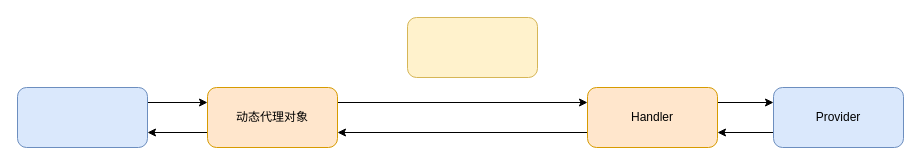
This 921x165 diagram has some shape labels left out. The box of each missing label's shape, as (x1, y1, x2, y2) in pixels:
Consumer: (16, 86, 148, 148)
RpcRequest 接口名 方法名 方法类型 方法参数: (406, 16, 538, 78)
